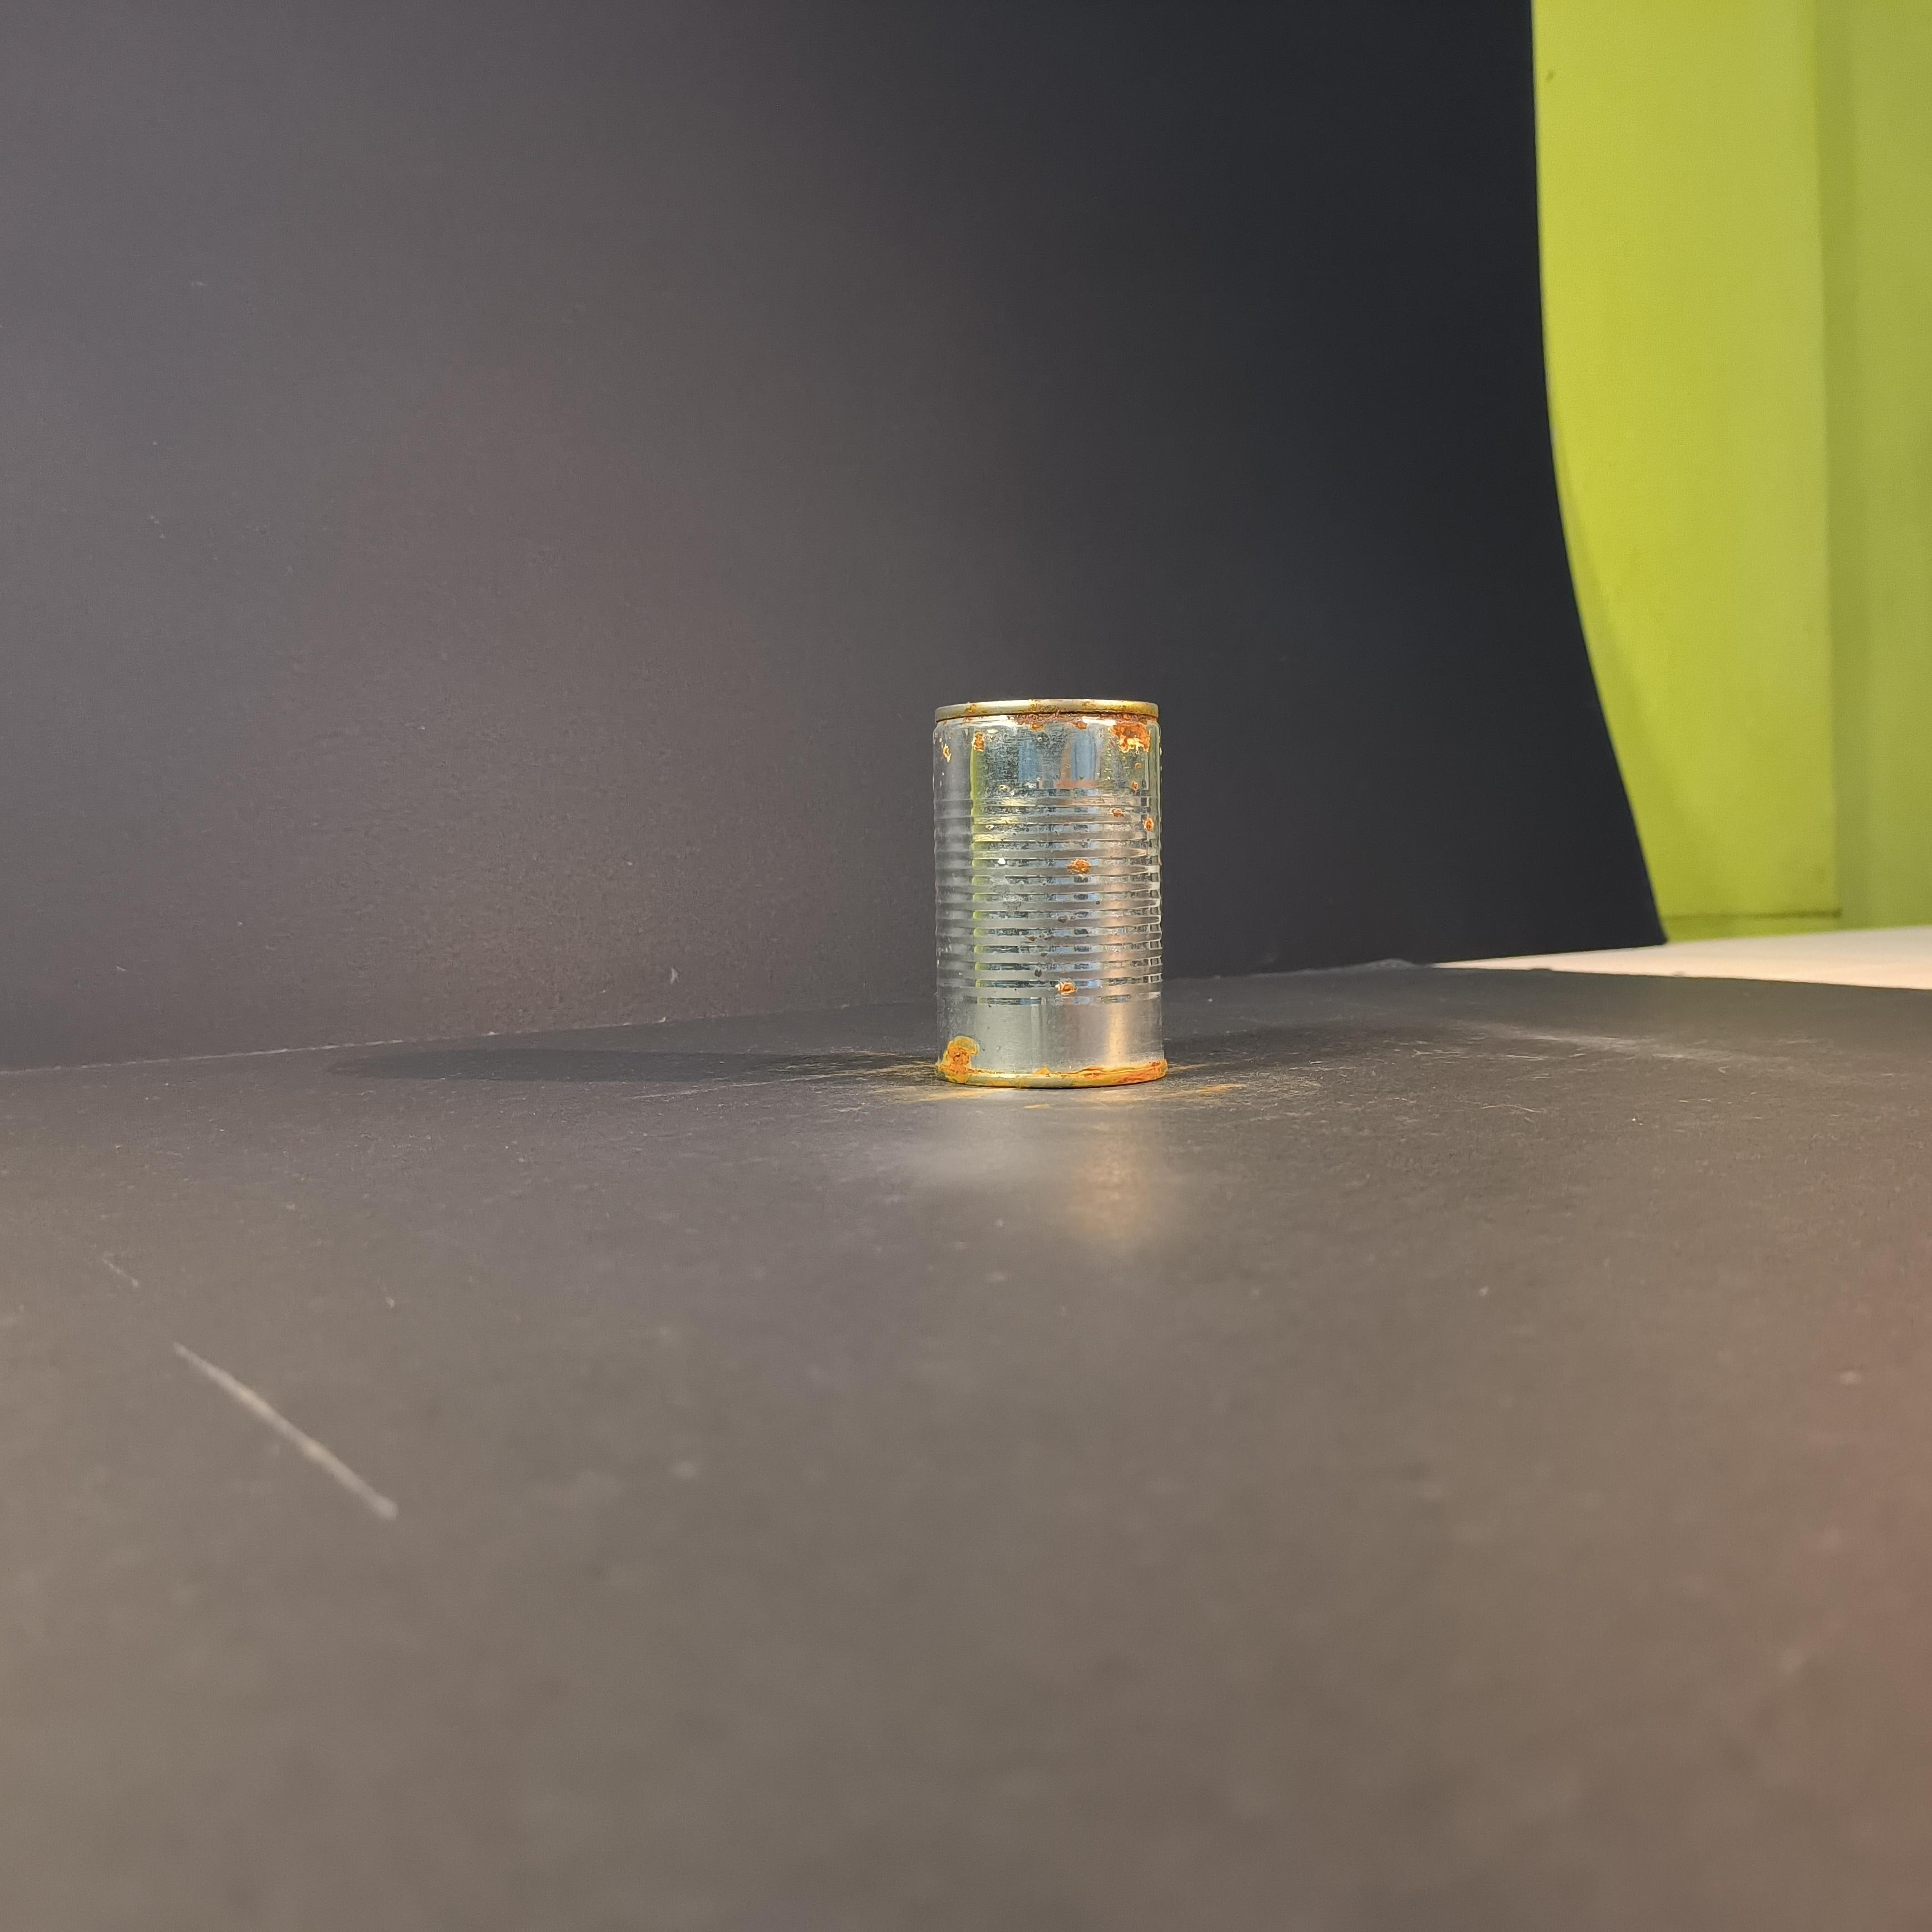Rusted: (909, 679, 1182, 1113)
